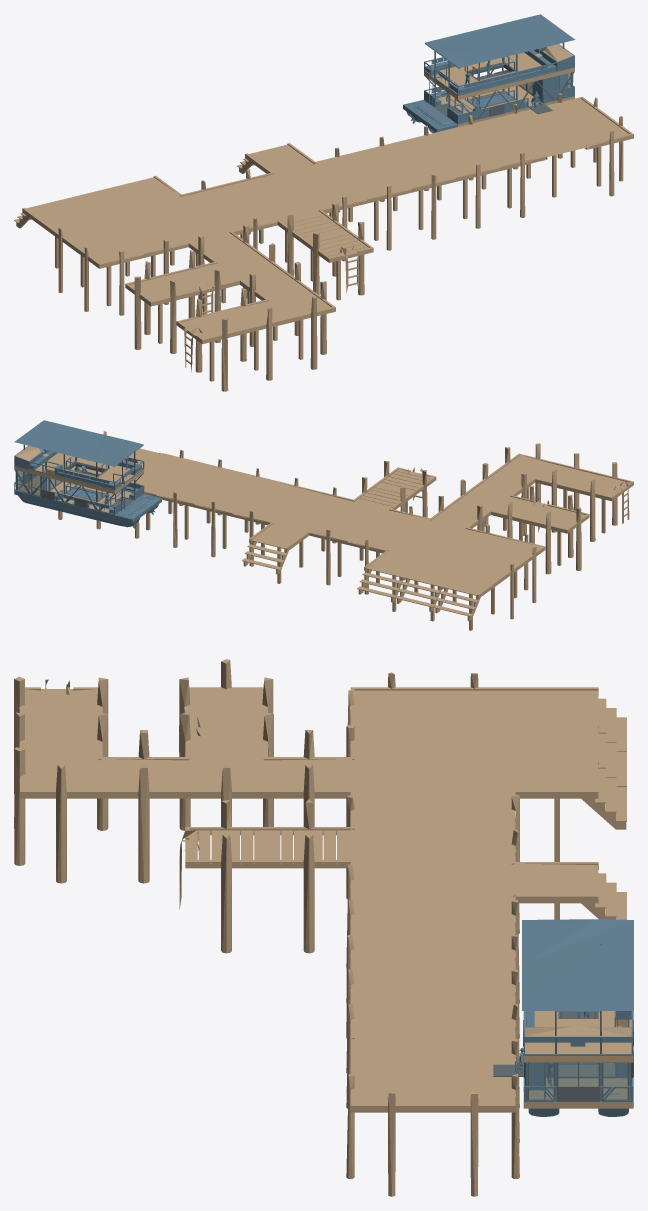
File: wheels-on-water.glb
3 views of the same model, one above another, from view 1: azimuth 30°, elevation 25°; view 2: azimuth 150°, elevation 25°; view 3: azimuth 270°, elevation 25° (orthographic). The views are drawn at different scales.
Parts seen in each view (by area): view 1: project:Timber, project:Hull, project:Metal; view 2: project:Timber, project:Hull, project:Metal, project:Glazing; view 3: project:Timber, project:Hull, project:Glazing, project:Metal.
Part boxes in pixels (<box>): project:Timber: <box>14,44,633,391</box>; project:Hull: <box>403,14,575,133</box>; project:Metal: <box>424,42,574,119</box>; project:Timber: <box>14,431,633,630</box>; project:Hull: <box>14,420,161,528</box>; project:Metal: <box>14,444,143,511</box>; project:Glazing: <box>17,470,61,495</box>; project:Timber: <box>14,659,632,1196</box>; project:Hull: <box>515,919,633,1116</box>; project:Glazing: <box>529,1063,627,1099</box>; project:Metal: <box>493,943,633,1101</box>.
Bounding box in the file's own units: 55.38 × 11.04 × 34.31.
